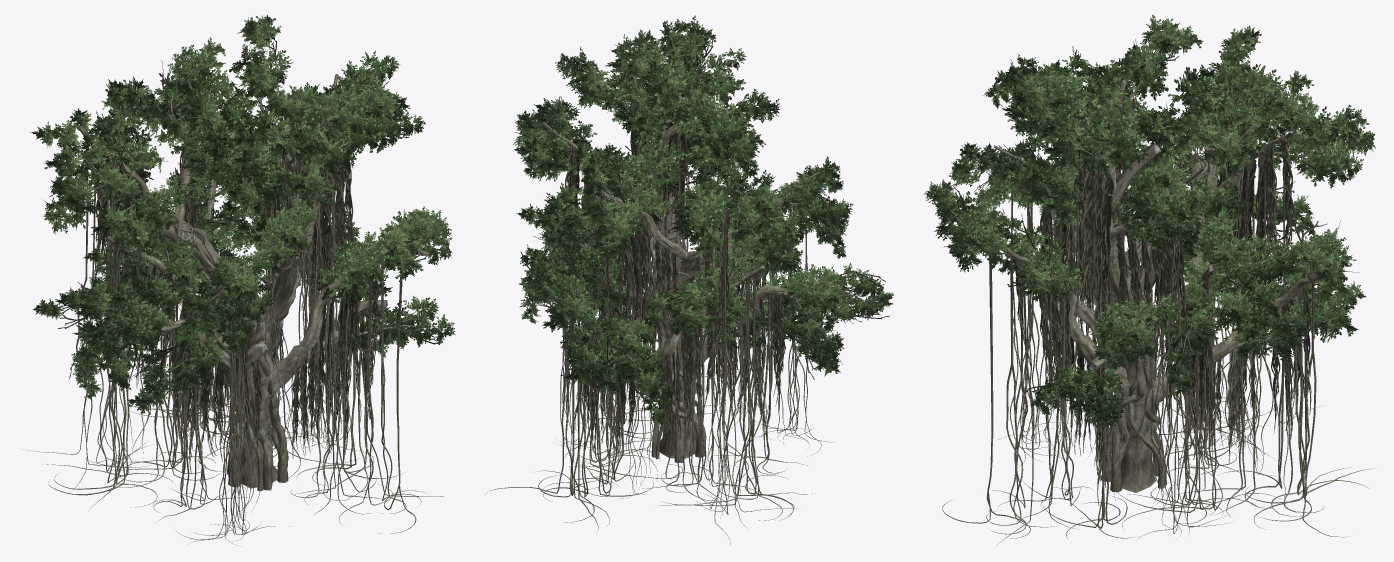
The model's file is chinese_banyan_ficus_microcarpa.glb.
The picture shows the model from 3 angles, left to right: view 1: azimuth 30°, elevation 25°; view 2: azimuth 150°, elevation 25°; view 3: azimuth 270°, elevation 25°; orthographic projection. The views are drawn at different scales.
Parts seen in each view (by area): view 1: ChineseBanyan_Med; view 2: ChineseBanyan_Med; view 3: ChineseBanyan_Med.
Part boxes in pixels (<box>): ChineseBanyan_Med: <box>21,15,455,546</box>; ChineseBanyan_Med: <box>485,15,893,544</box>; ChineseBanyan_Med: <box>924,14,1375,545</box>.
Size of the model in its own units: 17.83 by 20.28 by 17.67.
7 materials, 7 textured.
